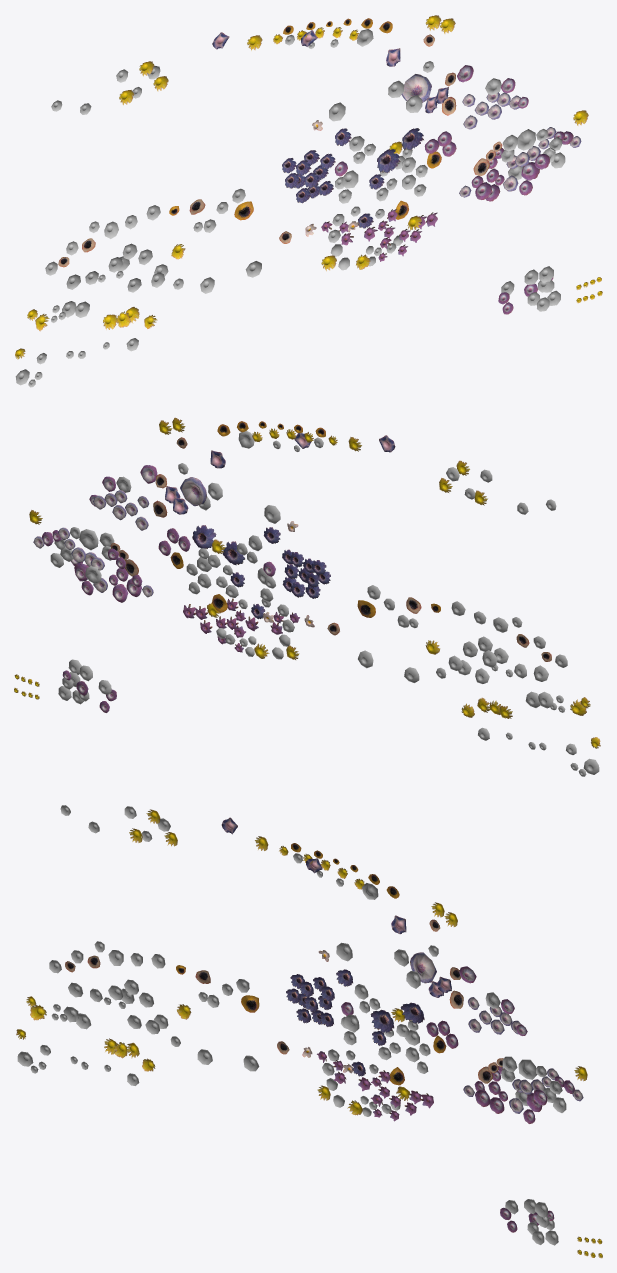
File: Front_Flower2.fbx
3 views of the same model, one above another, from view 1: azimuth 30°, elevation 25°; view 2: azimuth 150°, elevation 25°; view 3: azimuth 330°, elevation 25° (orthographic).
Parts seen in each view (by area): view 1: Circle.553; view 2: Circle.553; view 3: no part large enough to name.
Boxes of the visible parts, box(x1,y1,x2,y2) form: Circle.553: box(401, 74, 431, 102); Circle.553: box(180, 477, 206, 506).
Size of the model in its own units: 350 by 202 by 13.15.
